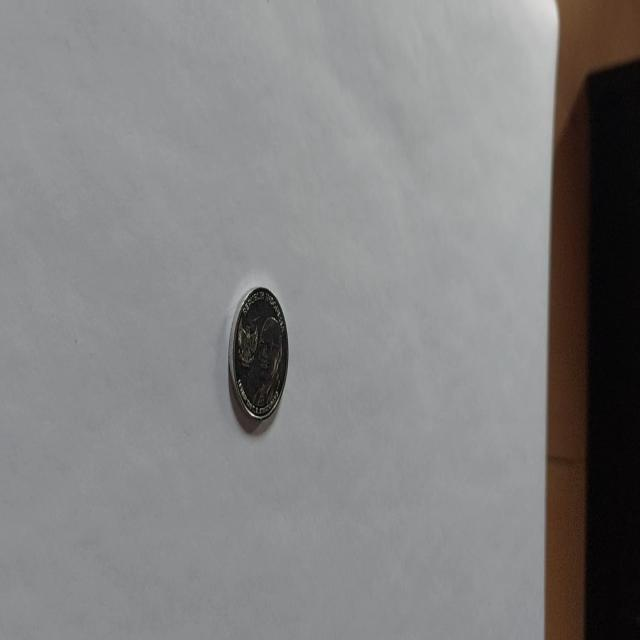lima ratus rupiah: (227, 283, 290, 433)
